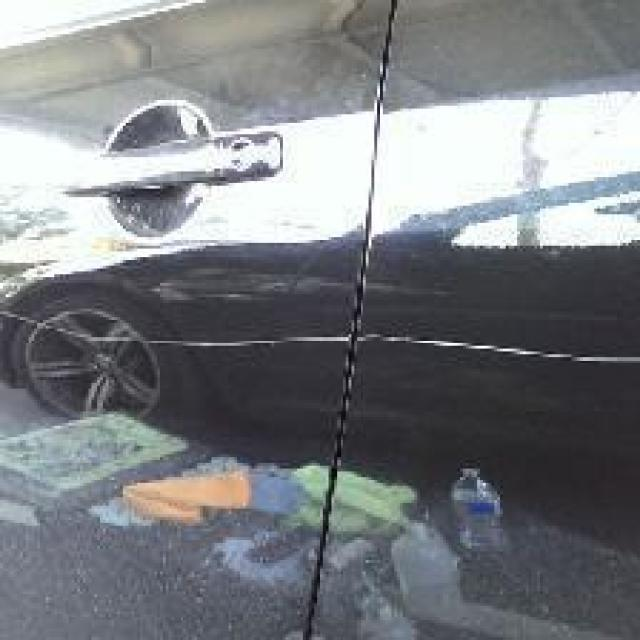damaged: (2, 306, 638, 378)
